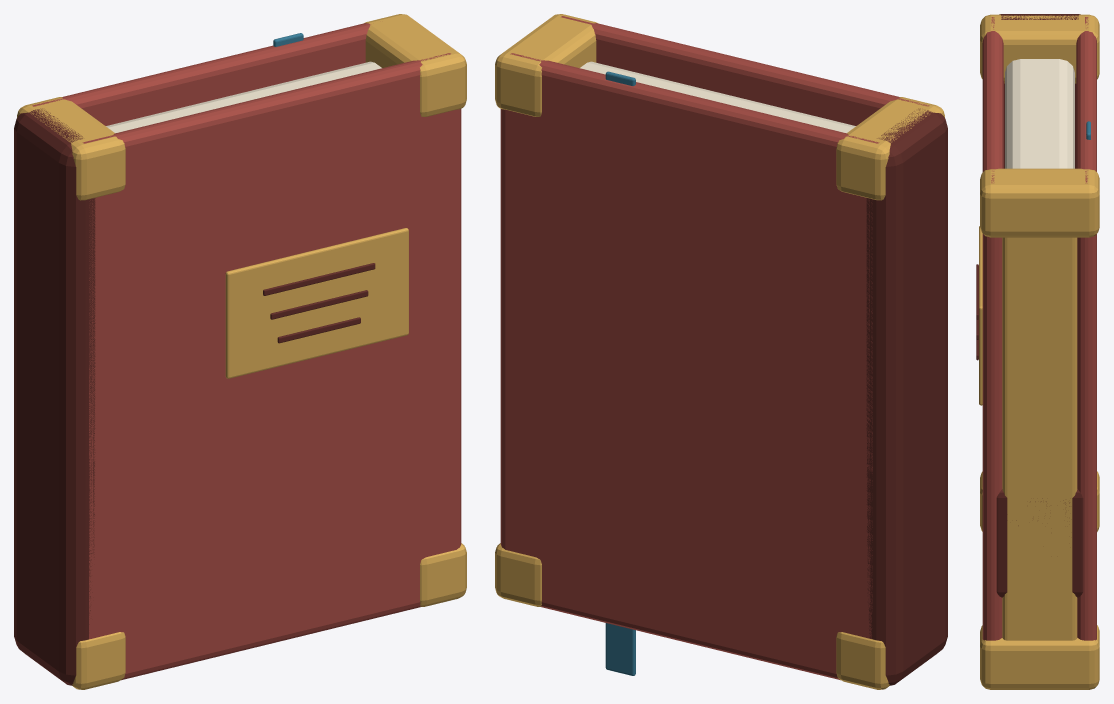
The model's file is everyday_book.glb.
3 renders of one model, left to right at view 1: azimuth 30°, elevation 25°; view 2: azimuth 150°, elevation 25°; view 3: azimuth 270°, elevation 25°, orthographic. The views are drawn at different scales.
Parts seen in each view (by area): view 1: Book_FrontCover, Book_Spine, Book_FoilTitlePlate, Book_BackCover, Book_RightUpperCorner, Book_LeftUpperCorner, Book_PageBlock, Book_LeftLowerCorner, Book_RightLowerCorner, Book_TitleLine_1, Book_TitleLine_2; view 2: Book_BackCover, Book_Spine, Book_FrontCover, Book_RightUpperCorner, Book_LeftUpperCorner, Book_PageBlock, Book_LeftLowerCorner, Book_RightLowerCorner, Book_RibbonMarker; view 3: Book_ForeEdge, Book_FrontCover, Book_BackCover, Book_RightUpperCorner, Book_PageBlock, Book_RightLowerCorner, Book_LeftUpperCorner, Book_RightGripEdge, Book_FoilTitlePlate, Book_Spine, Book_LeftLowerCorner.
Part boxes in pixels (x1,y1,x2,y2): Book_FrontCover: [82, 53, 461, 680]; Book_Spine: [14, 108, 95, 685]; Book_FoilTitlePlate: [225, 228, 408, 378]; Book_BackCover: [32, 23, 370, 125]; Book_RightUpperCorner: [364, 14, 466, 116]; Book_LeftUpperCorner: [17, 97, 125, 200]; Book_PageBlock: [106, 61, 381, 133]; Book_LeftLowerCorner: [72, 632, 125, 689]; Book_RightLowerCorner: [420, 543, 466, 606]; Book_TitleLine_1: [263, 263, 375, 295]; Book_TitleLine_2: [270, 290, 368, 319]; Book_BackCover: [500, 53, 879, 680]; Book_Spine: [866, 108, 947, 685]; Book_FrontCover: [561, 16, 929, 125]; Book_RightUpperCorner: [495, 14, 597, 116]; Book_LeftUpperCorner: [836, 97, 944, 200]; Book_PageBlock: [580, 61, 855, 133]; Book_LeftLowerCorner: [836, 632, 889, 689]; Book_RightLowerCorner: [495, 543, 541, 606]; Book_RibbonMarker: [605, 71, 635, 675]; Book_ForeEdge: [1002, 237, 1077, 640]; Book_FrontCover: [982, 17, 1003, 640]; Book_BackCover: [1076, 17, 1096, 640]; Book_RightUpperCorner: [980, 168, 1099, 237]; Book_PageBlock: [1005, 59, 1074, 168]; Book_RightLowerCorner: [980, 625, 1099, 689]; Book_LeftUpperCorner: [980, 14, 1099, 83]; Book_RightGripEdge: [996, 489, 1083, 597]; Book_FoilTitlePlate: [979, 226, 982, 405]; Book_Spine: [999, 14, 1080, 168]; Book_LeftLowerCorner: [980, 471, 1099, 531].
Size of the model in its own units: 0.165 by 0.235 by 0.0475.
